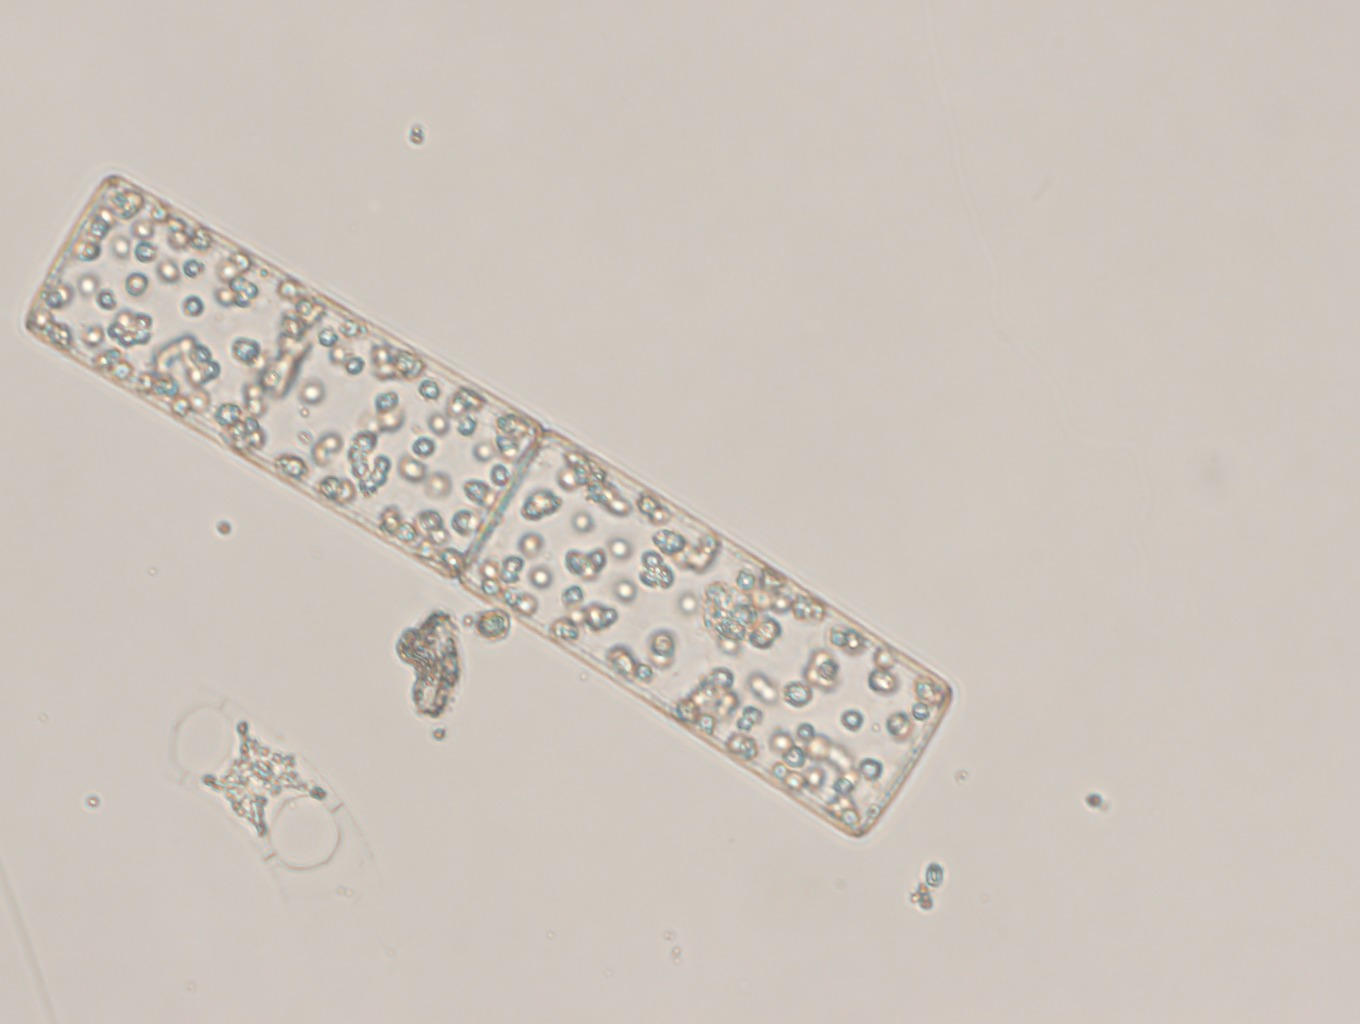guinardia flaccida: (18, 163, 959, 847)
